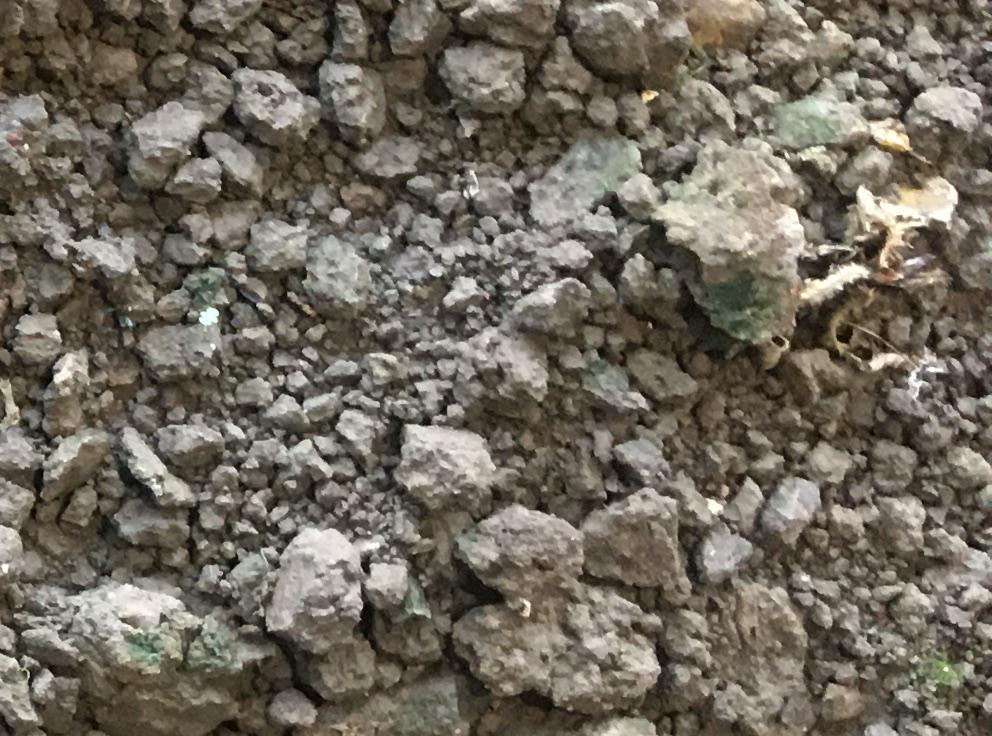block: (658, 137, 808, 346), (445, 590, 657, 712), (261, 524, 363, 657), (570, 487, 690, 598), (451, 503, 580, 597), (392, 420, 494, 516)
